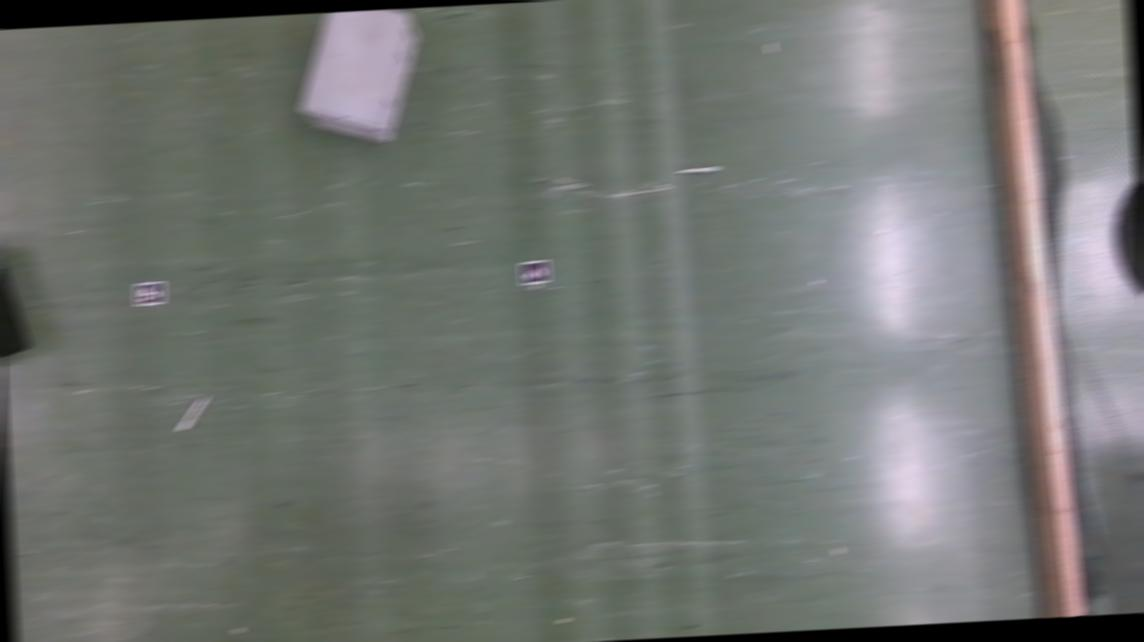probes: (176, 396, 210, 431), (676, 165, 719, 174)
rako: (294, 8, 426, 146), (0, 231, 32, 371)
